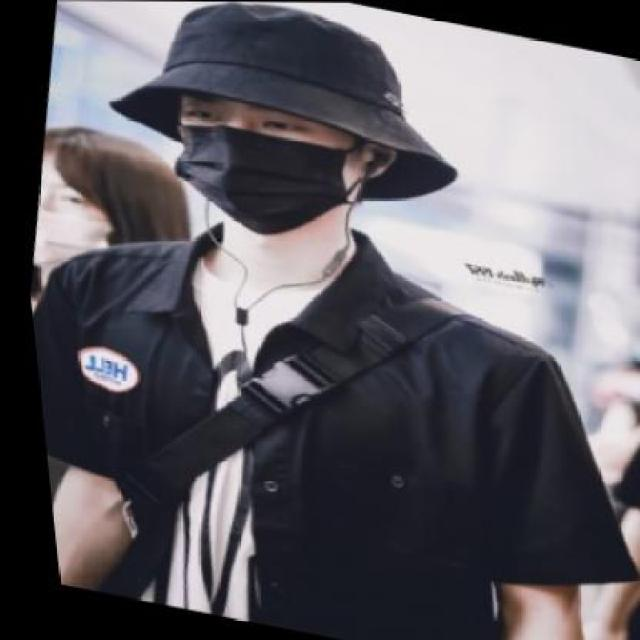hat: (84, 1, 490, 224)
